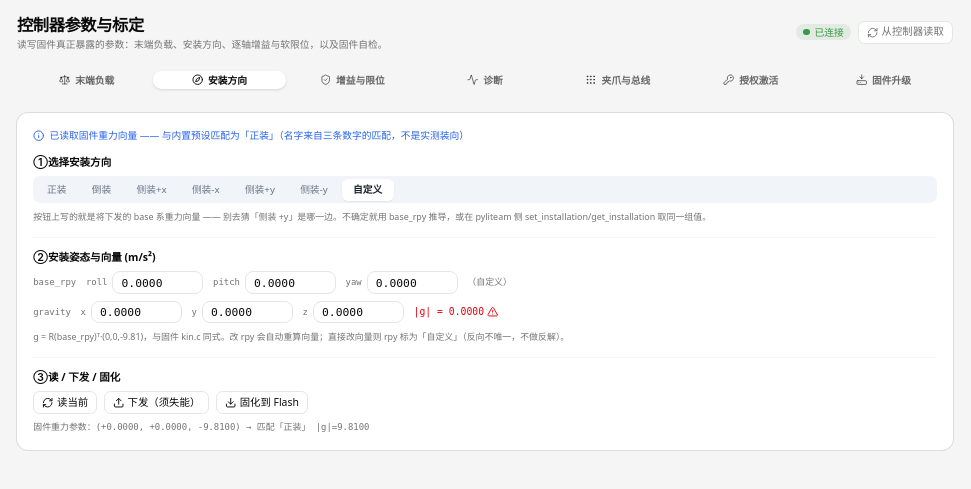
Test: SettingsPage — installation direction › reports the post-write self-check: read-back, |g| and whether G(q) moved
Expected: the text "已读取固件重力向量 —— 与内置预设匹配为「正装」（名字来自三条数字的匹配，不是实测装向）" is shown, [33,129,469,142]
Click the radio button labelled "侧装+x" at (152, 190), box [125,179,178,201]
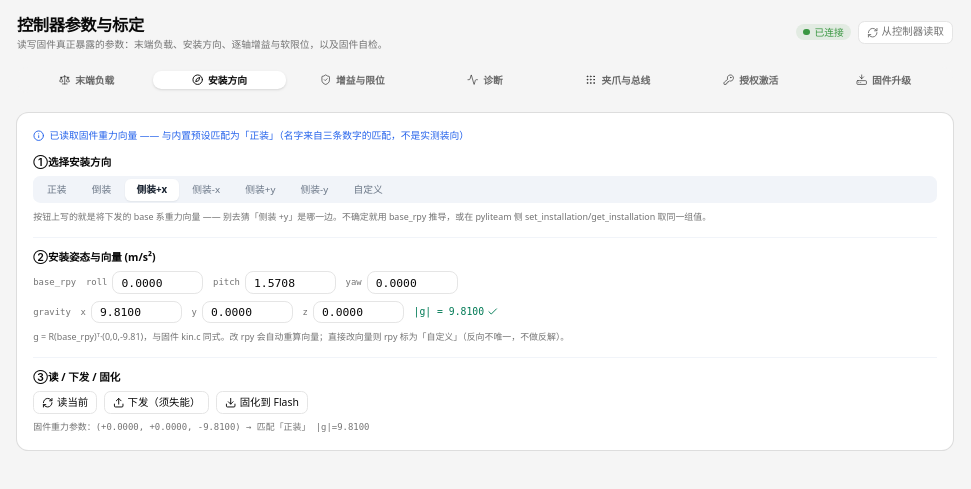
Click the button "下发（须失能）" at (157, 403), box [104,391,209,414]
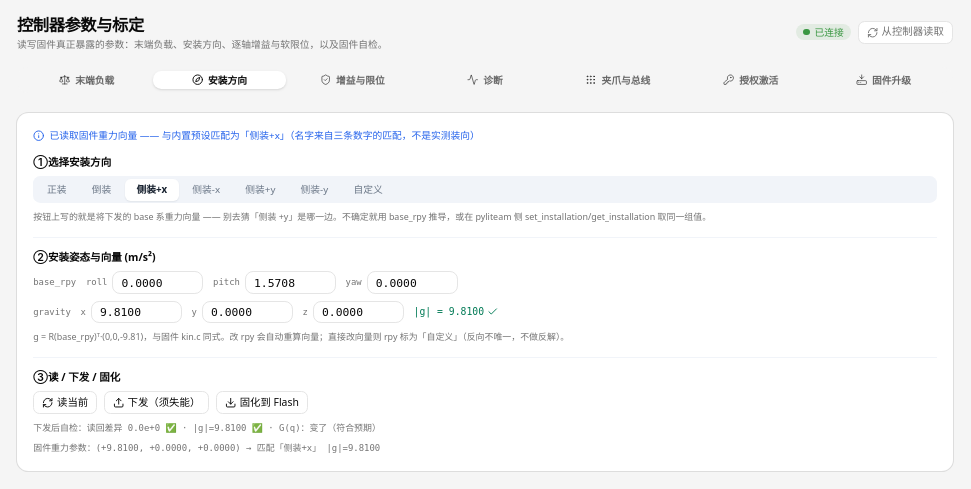
Expected: the text "下发后自检：读回差异 0.0e+0 ✅ · |g|=9.8100 ✅ · G(q)：变了（符合预期）" is shown, [33,423,381,433]
